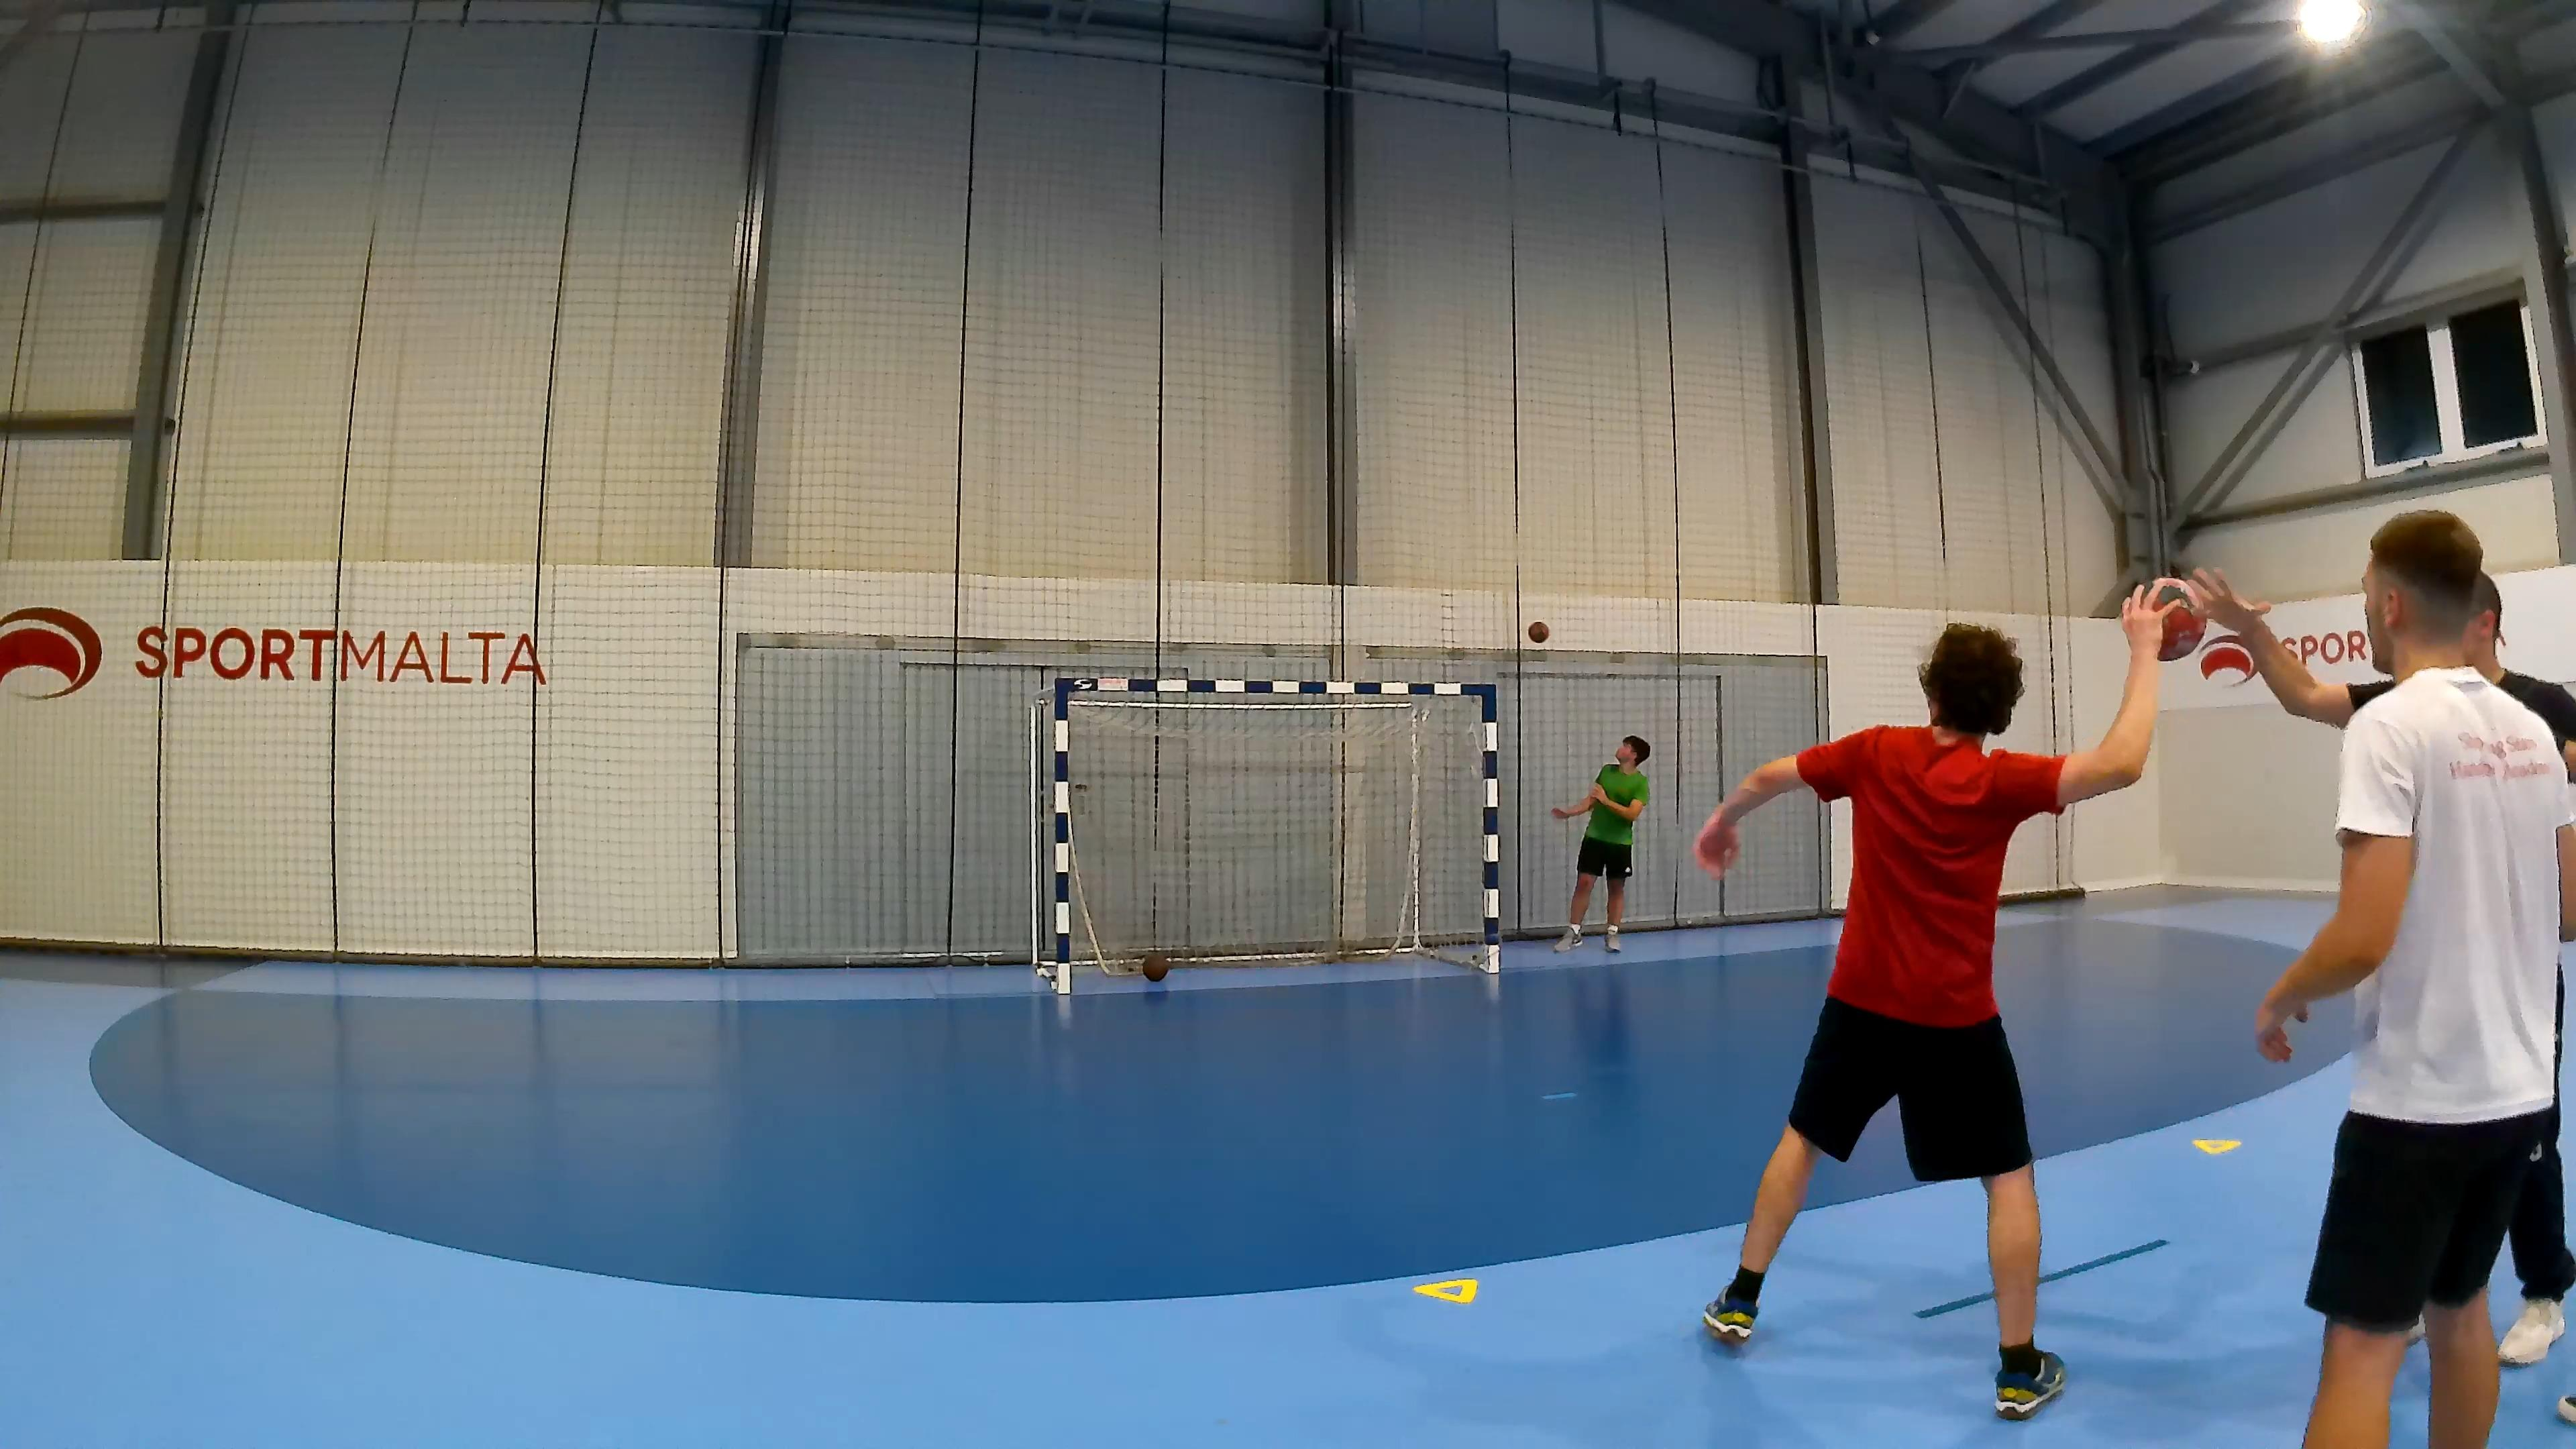handball: (2157, 600, 2204, 660), (1136, 952, 1171, 989), (1532, 621, 1552, 644)
